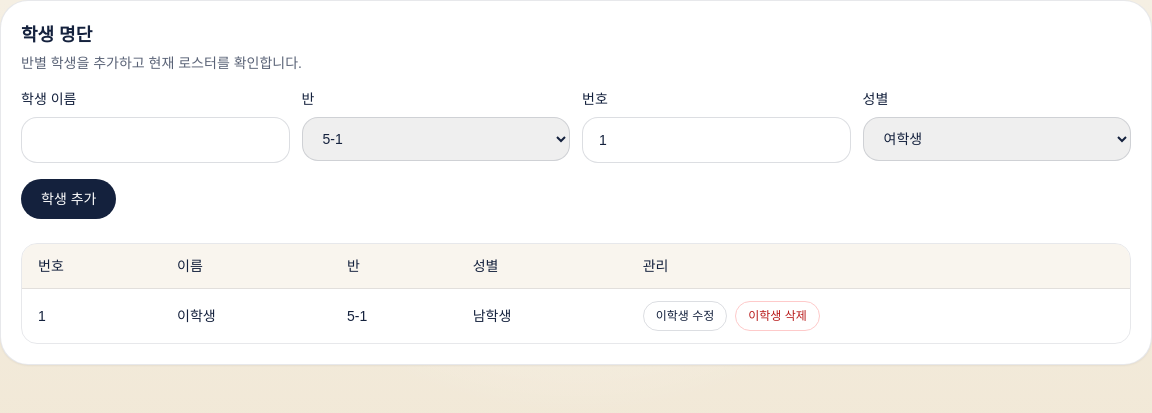
Test: teacher local mutation refresh behavior › filters the visible student roster by the selected class and allows editing an existing student
The image size is (1152, 413).
Check: the text "이학생" is shown, box top-left (161, 288), bottom-right (331, 343)
Check: the text "박학생" is not shown
Select "5-2" in the dropdown labelled "반". click: (436, 139)
box: top-left (302, 117), bottom-right (570, 161)
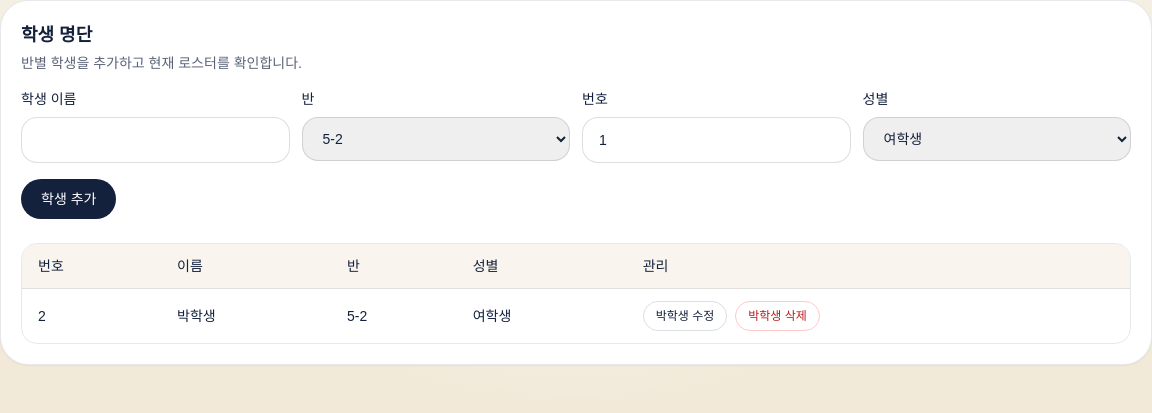
Check: the text "이학생" is gone
Check: the text "박학생" is shown, box top-left (161, 288), bottom-right (331, 343)
Click the button "박학생 수정". click: (685, 316)
box: top-left (643, 301), bottom-right (727, 331)
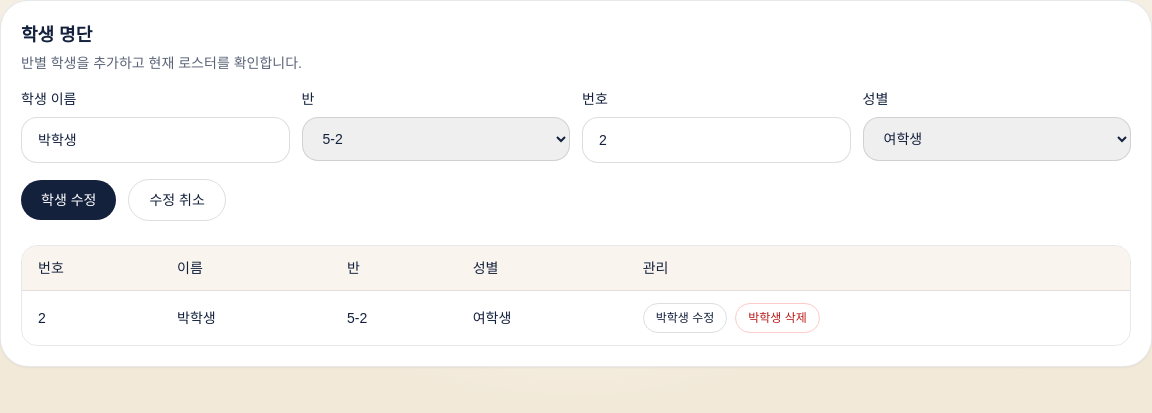
Check: the field labelled "학생 이름" holds "박학생"
Check: the field labelled "번호" holds "2", box top-left (582, 117), bottom-right (850, 163)
Check: the button "학생 수정" is shown, box top-left (21, 180), bottom-right (116, 220)
Replace the text in the field labelled "학생 이름" with "박수정". click: (155, 140)
box: top-left (21, 117), bottom-right (290, 163)
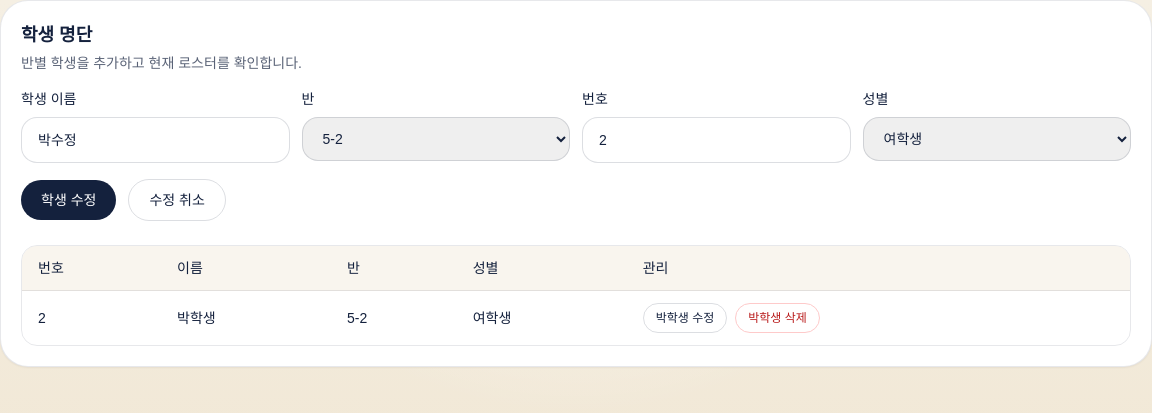
Replace the text in the field labelled "번호" with "7". click: (716, 140)
box: top-left (582, 117), bottom-right (850, 163)
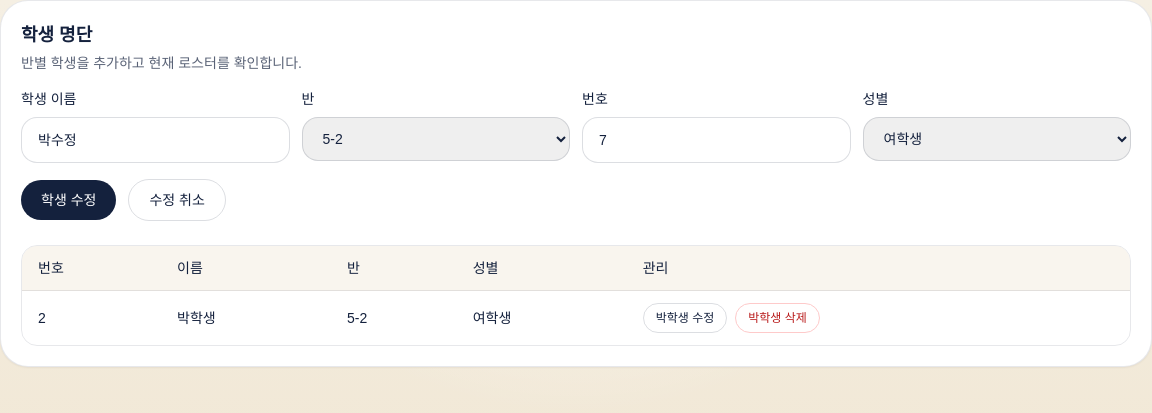
Click the button "학생 수정". click: (69, 200)
box: top-left (21, 180), bottom-right (116, 220)
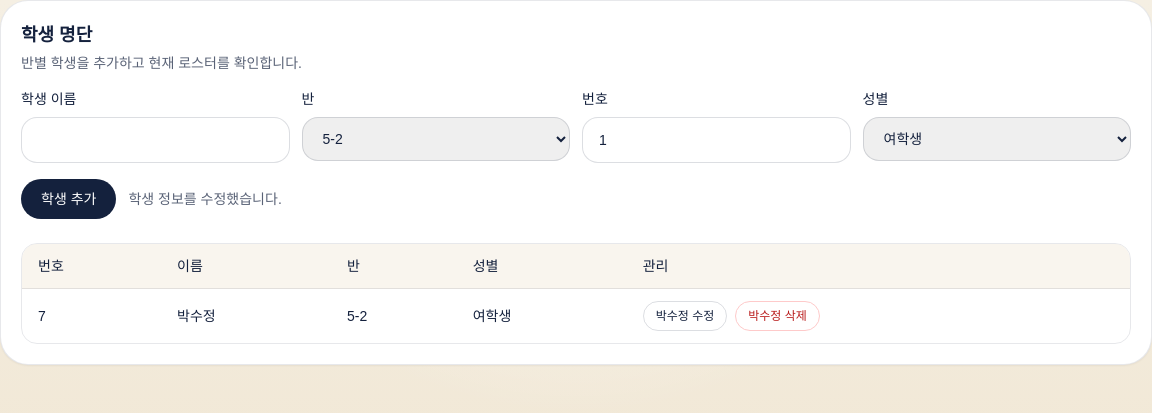
Check: the text "학생 정보를 수정했습니다." is shown, box top-left (128, 189), bottom-right (282, 209)
Check: the text "박수정" is shown, box top-left (161, 288), bottom-right (331, 343)
Check: the text "박학생" is gone
